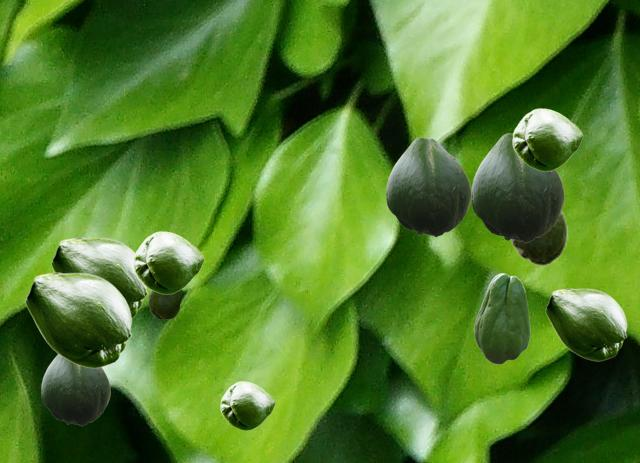sayote: (25, 272, 131, 367), (471, 133, 563, 242), (386, 137, 470, 236), (51, 237, 147, 318), (545, 288, 626, 360), (510, 169, 566, 265), (474, 273, 529, 363), (41, 355, 109, 425), (133, 231, 203, 293), (512, 108, 582, 170), (220, 381, 274, 429), (148, 290, 181, 318)
